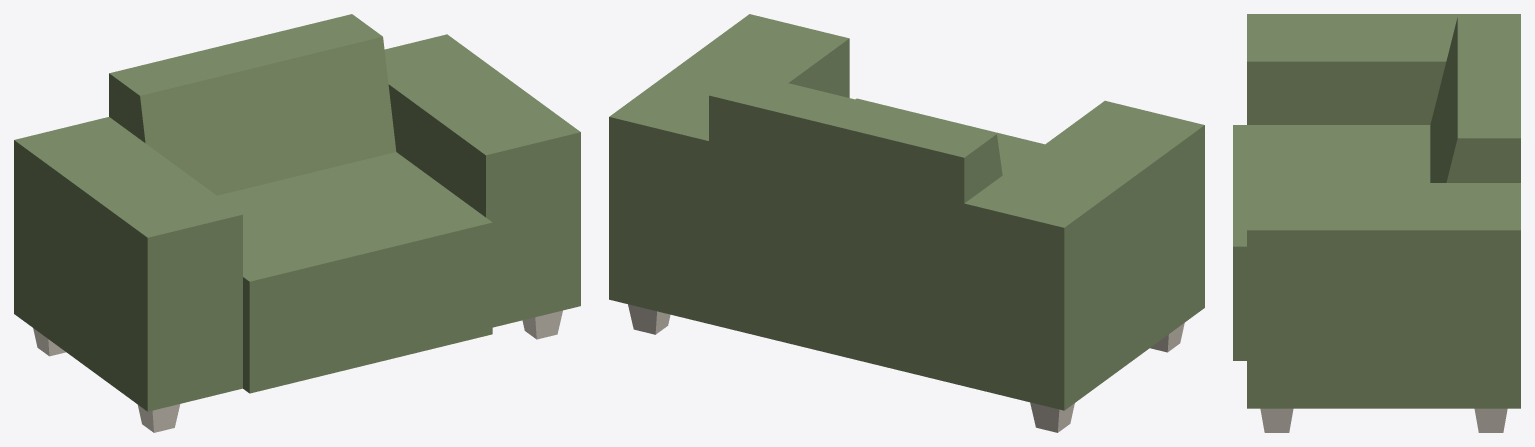
The model's file is kitLoungeDesignChair.glb.
The picture shows the model from 3 angles, left to right: view 1: azimuth 30°, elevation 25°; view 2: azimuth 150°, elevation 25°; view 3: azimuth 270°, elevation 25°; orthographic projection. The views are drawn at different scales.
Visible parts, largest first — view 1: kitLoungeDesignChair_fabricAccent, kitLoungeDesignChair_metal; view 2: kitLoungeDesignChair_fabricAccent, kitLoungeDesignChair_metal; view 3: kitLoungeDesignChair_fabricAccent, kitLoungeDesignChair_metal.
Boxes of the visible parts, x1,y1,x2,y2 form: kitLoungeDesignChair_fabricAccent: (14,14,580,411); kitLoungeDesignChair_metal: (33,310,562,432); kitLoungeDesignChair_fabricAccent: (609,14,1204,410); kitLoungeDesignChair_metal: (628,304,1184,432); kitLoungeDesignChair_fabricAccent: (1233,14,1520,408); kitLoungeDesignChair_metal: (1260,408,1507,432).
Size of the model in its own units: 1.46 by 0.8 by 0.82.
